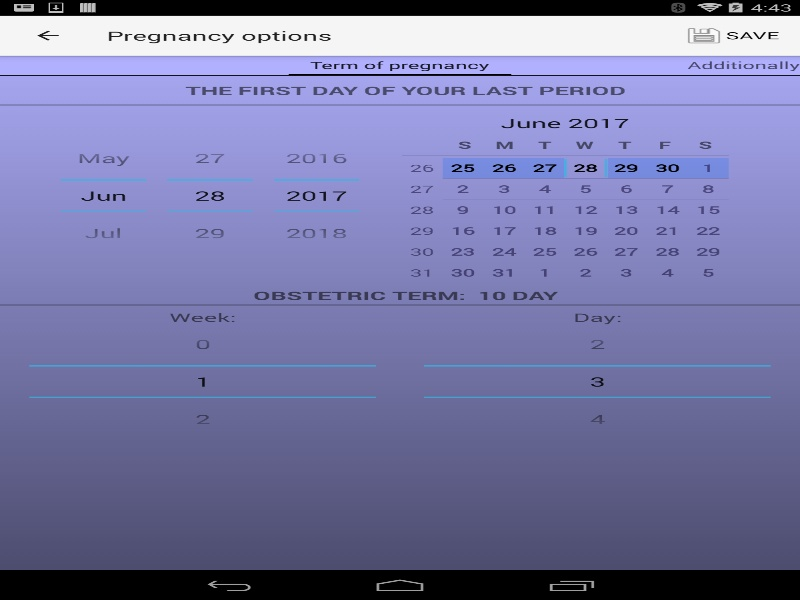Button: (0, 75, 800, 105), (60, 139, 146, 180), (60, 210, 146, 251), (167, 139, 252, 180), (167, 210, 252, 251), (274, 139, 359, 180), (274, 210, 359, 251), (10, 15, 85, 55)
Input: (60, 180, 146, 210), (167, 180, 252, 210), (274, 180, 359, 210)
